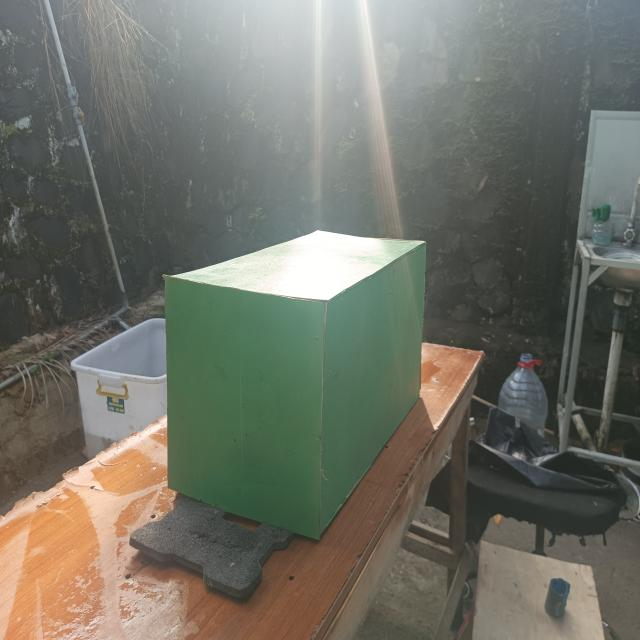green_box: (161, 186, 441, 552)
